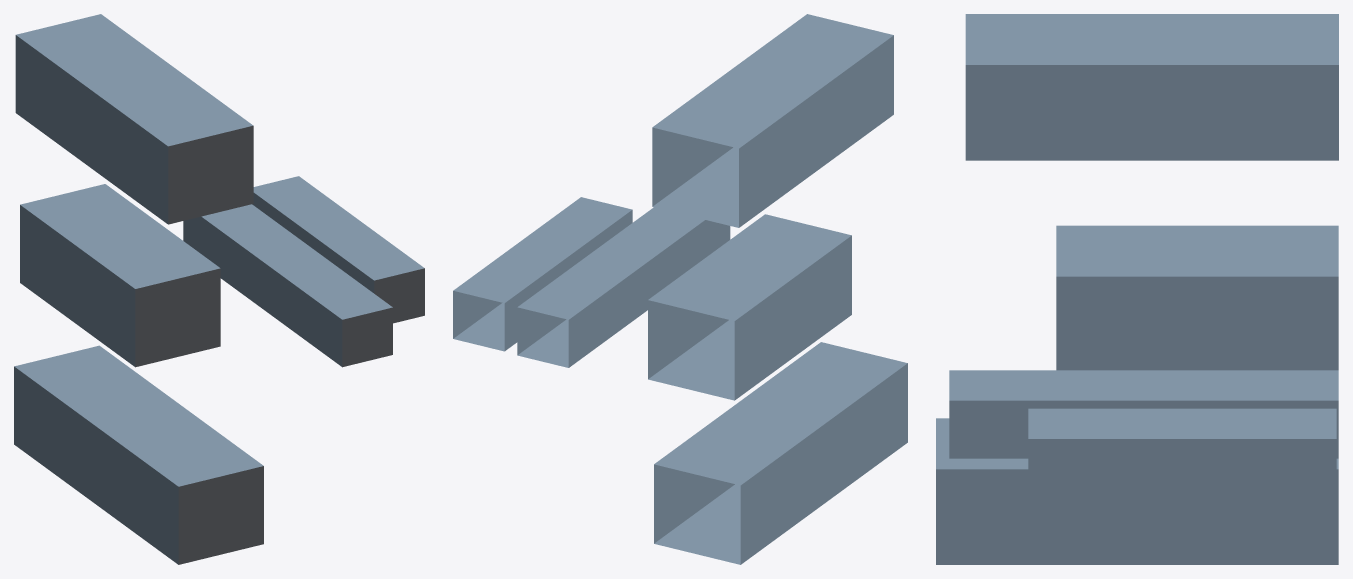
File: island_bldg_09_06.obj
3 views of the same model, side by side, from view 1: azimuth 30°, elevation 25°; view 2: azimuth 150°, elevation 25°; view 3: azimuth 270°, elevation 25° (orthographic). The views are drawn at different scales.
Visible parts, largest first — view 1: island_bldg_09_06; view 2: island_bldg_09_06; view 3: island_bldg_09_06.
Part boxes in pixels (<box>): island_bldg_09_06: <box>14,14,424,564</box>; island_bldg_09_06: <box>453,14,907,564</box>; island_bldg_09_06: <box>936,14,1338,564</box>.
Size of the model in its own units: 106 by 147 by 107.
